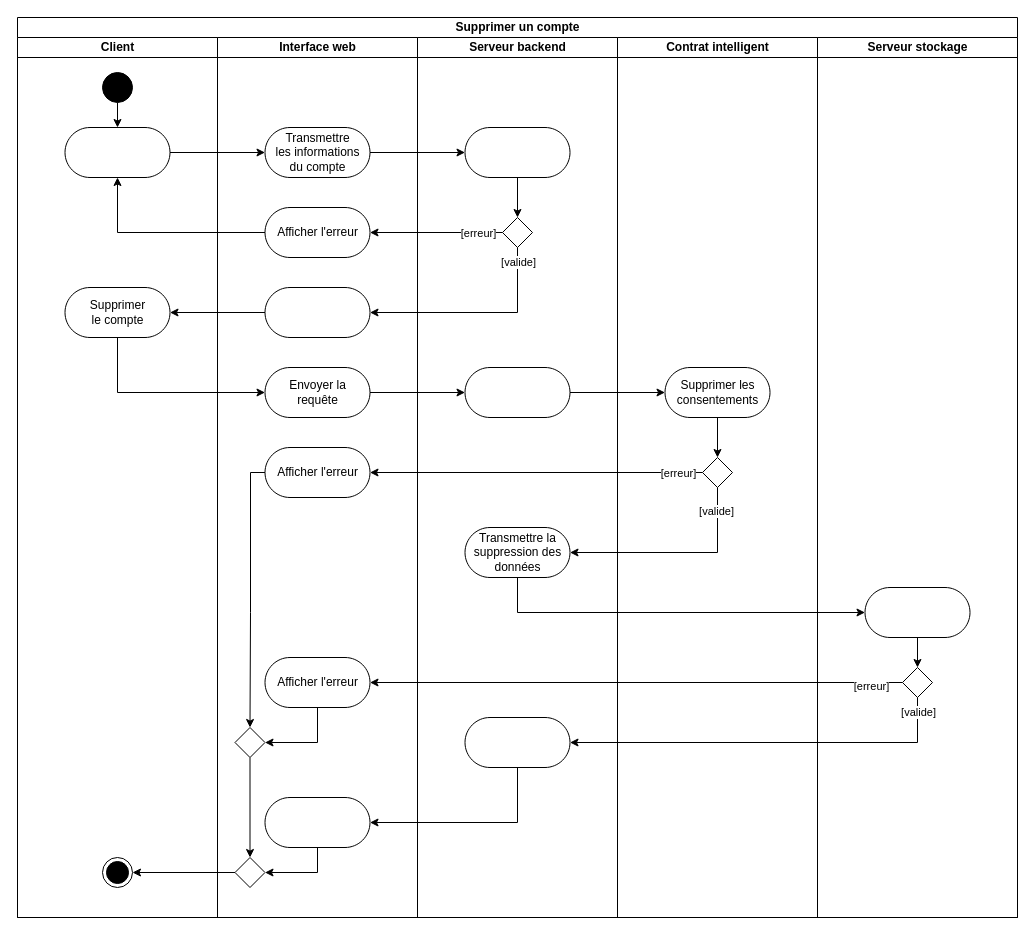
Some shapes in this 1035 by 935 pixel diagram are drawn without their labels. Here are the shapes that lost their labels. From the top down, the centre of each, then its label:
At (117,152): "Login".
At (517,152): "Vérifier le compte".
At (317,312): "Afficher la page du compte".
At (517,392): "Transmettre la suppression des consentements".
At (917,612): "Supprimer les données".
At (517,742): "Supprimer les données de connexion".
At (317,822): "Afficher la confirmation".
